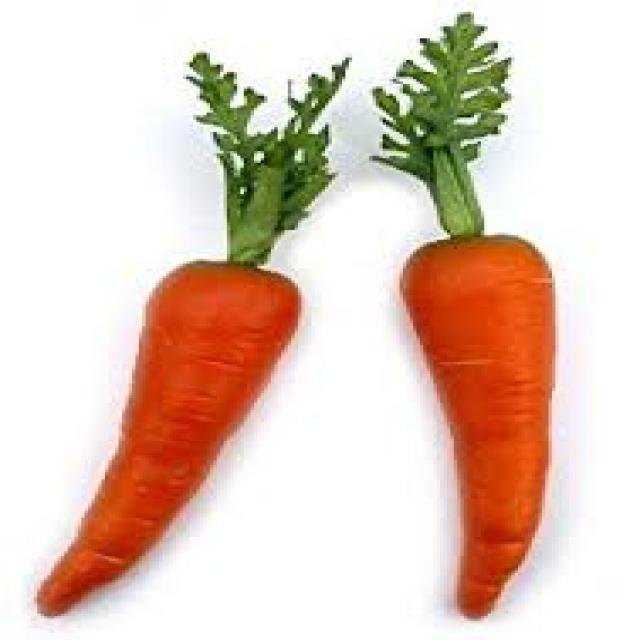organic waste: (30, 259, 298, 616), (399, 233, 558, 616), (180, 50, 346, 266), (362, 12, 512, 237)
